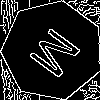M: (27, 25, 90, 87)
